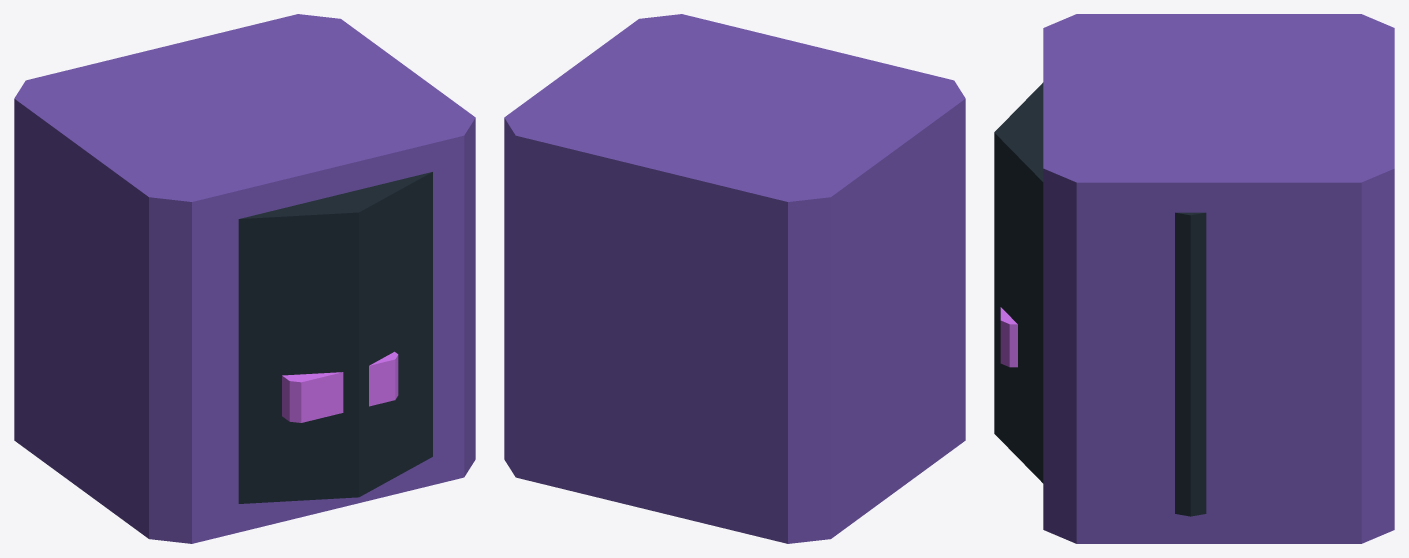
The model's file is enemy_tank_forearm_l.obj.
3 views of the same model, side by side, from view 1: azimuth 30°, elevation 25°; view 2: azimuth 150°, elevation 25°; view 3: azimuth 270°, elevation 25° (orthographic). The views are drawn at different scales.
Bounding box in the file's own units: 0.4268 × 0.42 × 0.4218.
